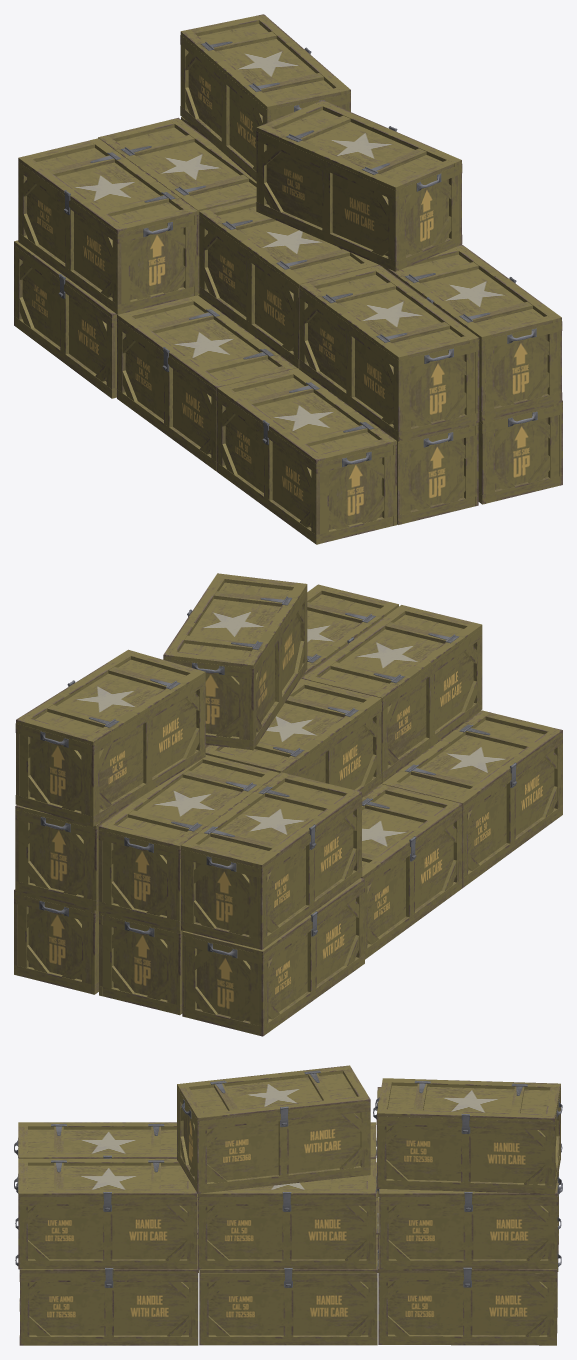
File: SM_Crate_Stack_05.fbx
3 views of the same model, one above another, from view 1: azimuth 30°, elevation 25°; view 2: azimuth 150°, elevation 25°; view 3: azimuth 270°, elevation 25° (orthographic). The views are drawn at different scales.
Visible parts, largest first — view 1: SM_Crate_Stack_05_LOD0; view 2: SM_Crate_Stack_05_LOD0; view 3: SM_Crate_Stack_05_LOD0.
Boxes of the visible parts, box(x1,y1,x2,y2) form: SM_Crate_Stack_05_LOD0: box(14, 14, 562, 544); SM_Crate_Stack_05_LOD0: box(14, 573, 562, 1036); SM_Crate_Stack_05_LOD0: box(14, 1065, 562, 1345).
Bounding box in the file's own units: 222 × 461 × 212.
1 material, 1 textured.
